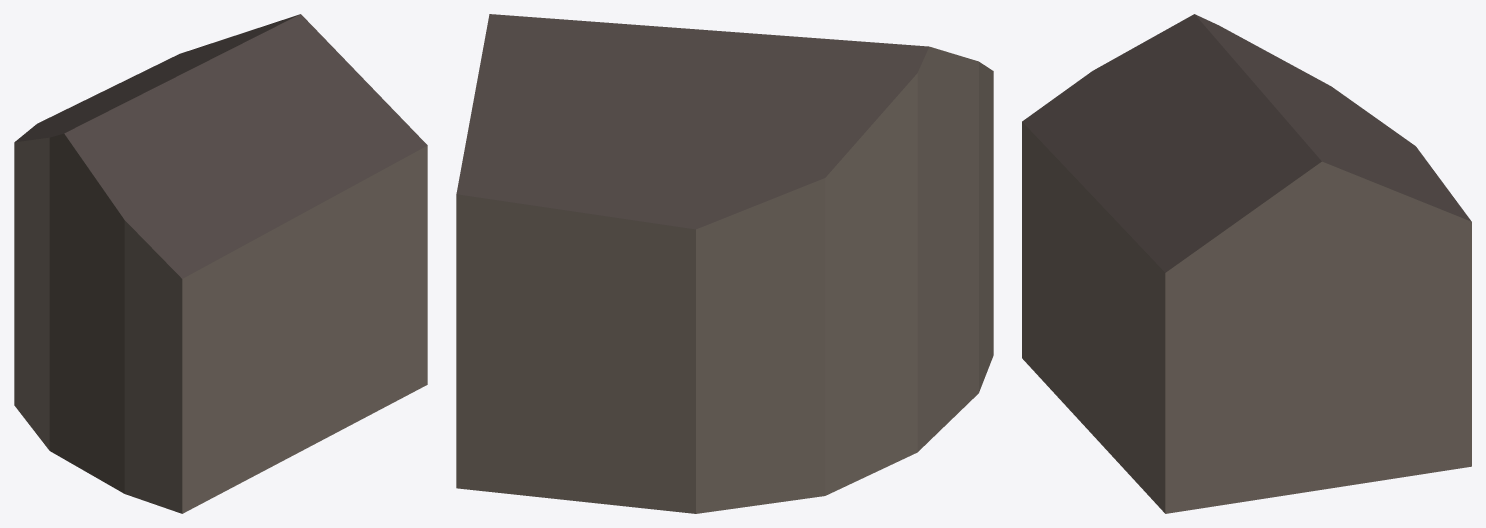
3 views of the same model, side by side, from view 1: azimuth 30°, elevation 25°; view 2: azimuth 150°, elevation 25°; view 3: azimuth 270°, elevation 25° (orthographic). The views are drawn at different scales.
Visible parts, largest first — view 1: HP-w441870619; view 2: HP-w441870619; view 3: HP-w441870619.
Part boxes in pixels (<box>): HP-w441870619: <box>14,14,427,513</box>; HP-w441870619: <box>456,14,993,513</box>; HP-w441870619: <box>1022,14,1471,513</box>.
Bounding box in the file's own units: 9.4 × 8.32 × 10.33.
